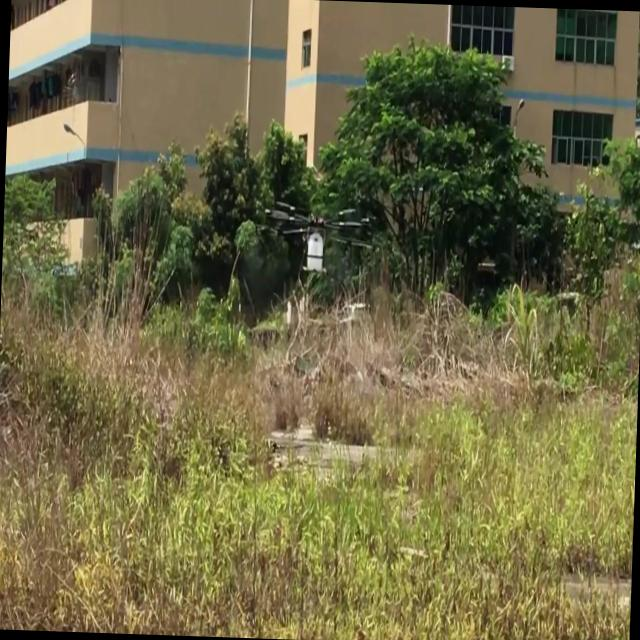drone: (260, 194, 376, 284)
